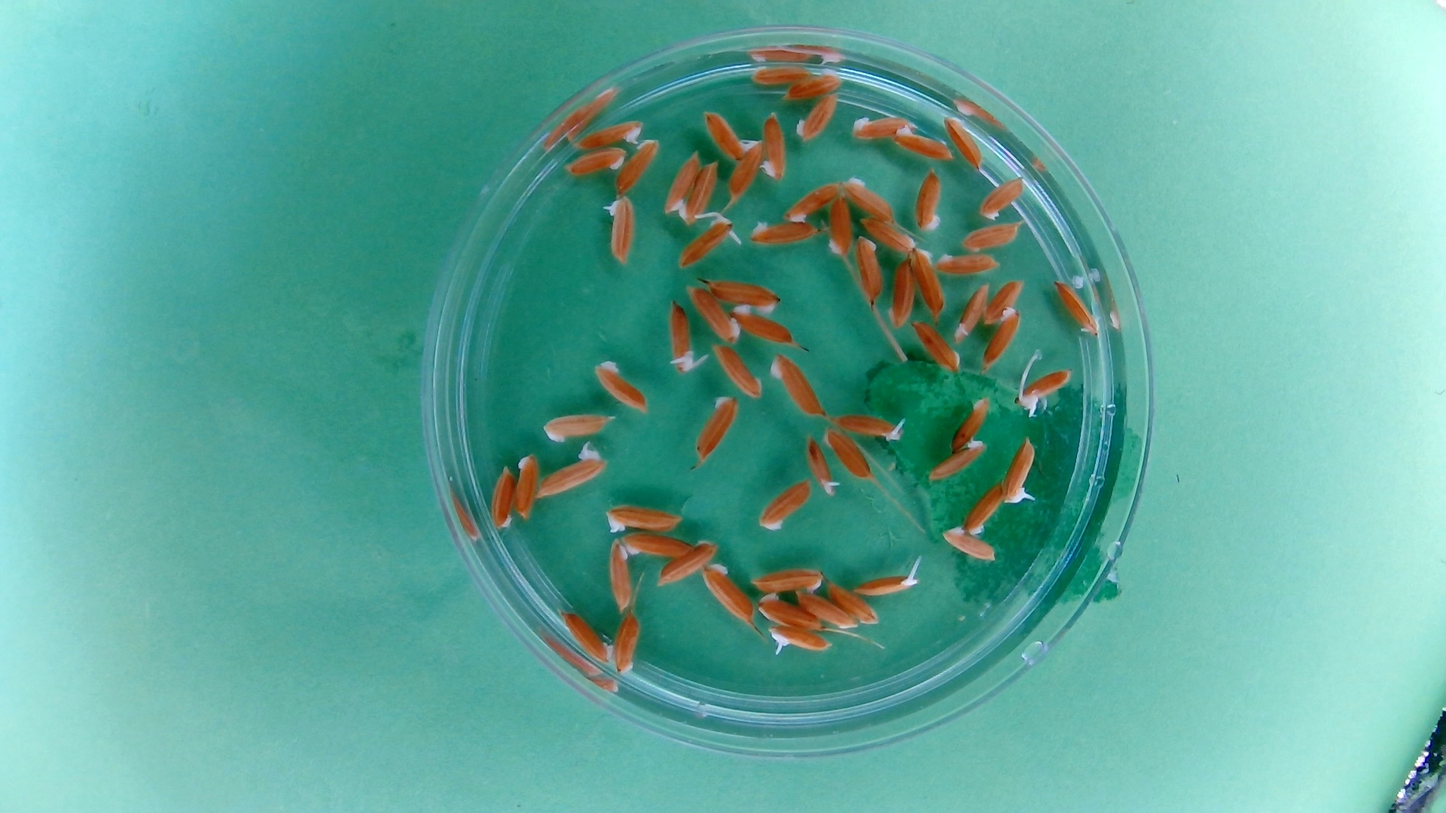no: (766, 349, 825, 419), (700, 559, 756, 629), (690, 392, 740, 470), (686, 283, 741, 346), (656, 537, 721, 590), (557, 606, 615, 665), (756, 476, 814, 534), (593, 357, 650, 416), (703, 275, 784, 316), (728, 305, 801, 349), (709, 341, 763, 400), (601, 500, 685, 537), (979, 306, 1023, 375), (821, 425, 874, 482), (910, 319, 962, 377), (840, 172, 898, 224), (1051, 278, 1100, 338), (941, 112, 987, 175), (910, 244, 948, 320), (614, 137, 661, 198), (782, 177, 842, 224), (679, 157, 719, 227), (795, 589, 860, 631), (948, 392, 992, 454), (754, 591, 823, 630), (926, 440, 988, 483), (540, 410, 616, 445), (725, 139, 764, 207), (793, 91, 842, 145), (976, 173, 1028, 223), (850, 231, 884, 306), (827, 579, 880, 627), (747, 564, 826, 596), (746, 215, 820, 249), (981, 275, 1028, 328), (953, 281, 992, 344), (962, 480, 1005, 537), (891, 126, 957, 163), (604, 538, 636, 614), (886, 256, 918, 331), (858, 215, 919, 254), (758, 110, 790, 184), (617, 531, 693, 562), (847, 110, 918, 143), (941, 524, 999, 563), (959, 220, 1025, 254), (914, 165, 946, 234), (561, 145, 627, 178), (512, 449, 541, 523), (824, 193, 856, 260), (612, 611, 644, 678), (782, 68, 845, 102), (932, 248, 1002, 278), (487, 463, 516, 534), (746, 61, 815, 87)
yes: (533, 450, 608, 499), (677, 217, 734, 269), (701, 109, 753, 163), (661, 149, 700, 216), (1015, 367, 1073, 412), (602, 193, 637, 266), (666, 300, 700, 373), (1002, 438, 1038, 506), (832, 410, 906, 443), (804, 434, 840, 498), (764, 624, 831, 656), (853, 571, 918, 598), (575, 123, 640, 147)
